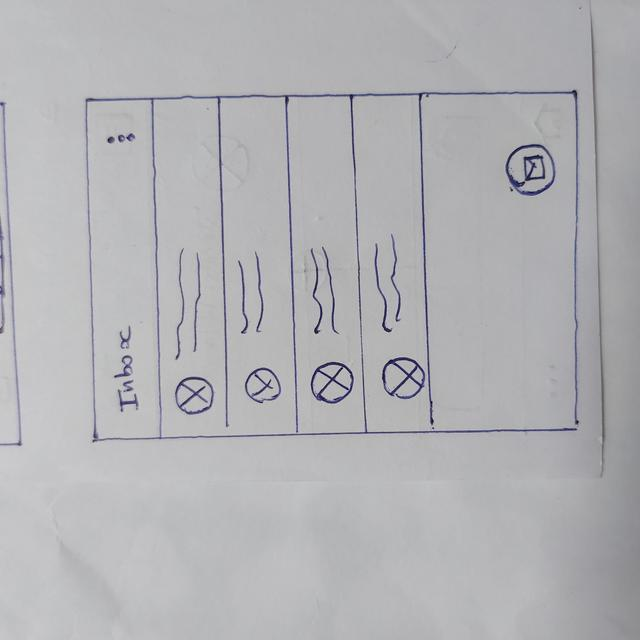ActionButton: (86, 120, 153, 159)
AppBar: (87, 98, 163, 440)
Fab: (505, 143, 557, 196)
Icon: (106, 132, 135, 145)
Layout: (215, 96, 302, 436), (354, 94, 438, 433), (286, 95, 367, 436), (151, 98, 228, 435)
MainLayout: (84, 91, 582, 435)
RoundedImage: (381, 356, 426, 400), (311, 361, 354, 405), (176, 377, 214, 415), (245, 369, 282, 405)
TextView: (175, 247, 201, 362), (374, 237, 401, 336), (234, 252, 265, 337), (310, 246, 337, 339), (116, 327, 140, 412)
